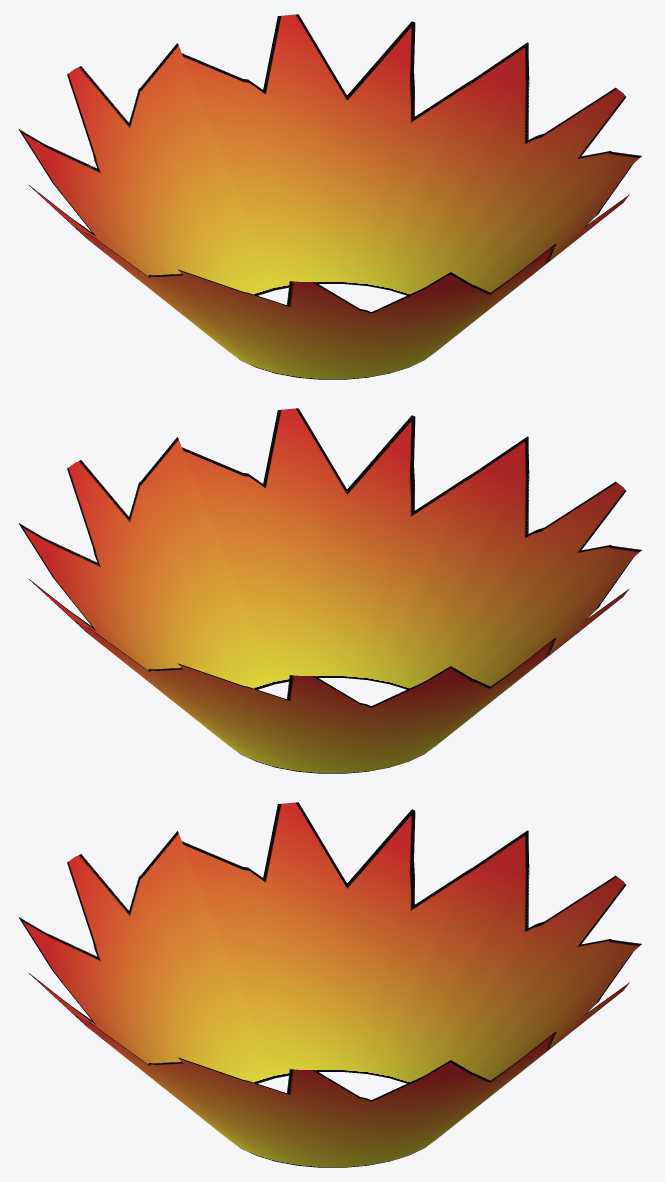
The model's file is GunEffects2.fbx.
3 views of the same model, one above another, from view 1: azimuth 30°, elevation 25°; view 2: azimuth 150°, elevation 25°; view 3: azimuth 270°, elevation 25° (orthographic).
Parts seen in each view (by area): view 1: GunEffect2; view 2: GunEffect2; view 3: GunEffect2.
Boxes of the visible parts, left/top/right/bottom form: GunEffect2: left=18, top=14, right=641, bottom=379; GunEffect2: left=18, top=408, right=641, bottom=773; GunEffect2: left=18, top=802, right=641, bottom=1167.
Bounding box in the file's own units: 199 × 200 × 63.7.
